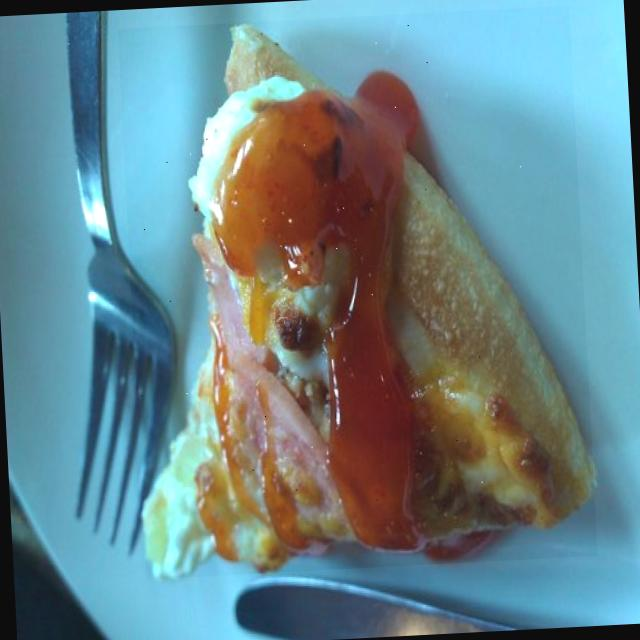pizza: (142, 23, 591, 579)
